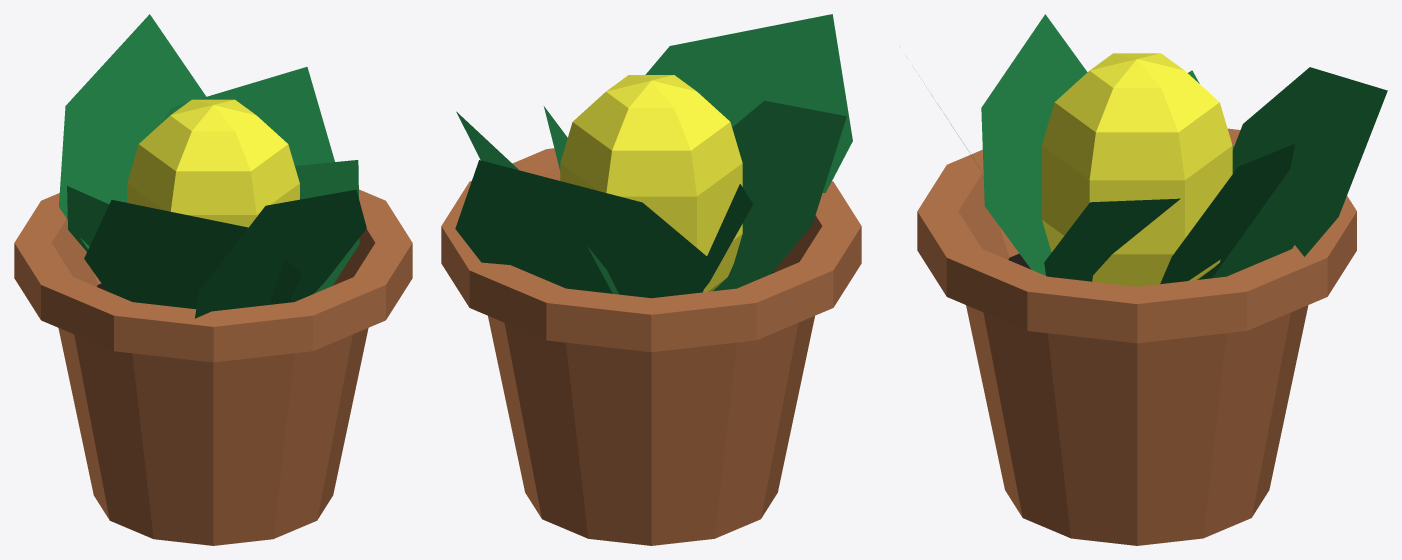
File: MM_Plant_B_Pot.fbx
3 views of the same model, side by side, from view 1: azimuth 30°, elevation 25°; view 2: azimuth 150°, elevation 25°; view 3: azimuth 270°, elevation 25° (orthographic). The views are drawn at different scales.
Visible parts, largest first — view 1: Plane.013, Plane.024, Plane.029, Plane.025, Plane.005, Plane.027, Plane.028, Plane.026; view 2: Plane.013, Plane.029, Plane.024, Plane.005, Plane.025, Plane.026, Plane.027, Plane.028; view 3: Plane.013, Plane.024, Plane.029, Plane.025, Plane.027, Plane.028.
Part boxes in pixels (x1,y1,x2,y2): Plane.013: (14,189,412,545); Plane.024: (127,99,299,227); Plane.029: (59,14,206,249); Plane.025: (84,199,302,309); Plane.005: (195,189,366,318); Plane.027: (160,67,334,165); Plane.028: (295,160,359,293); Plane.026: (67,186,108,251); Plane.013: (441,148,861,545); Plane.029: (455,160,713,298); Plane.024: (560,75,742,292); Plane.005: (645,14,852,192); Plane.025: (713,100,846,291); Plane.026: (698,184,753,292); Plane.027: (456,111,618,294); Plane.028: (544,106,567,170); Plane.013: (917,128,1356,545); Plane.024: (1042,53,1232,286); Plane.029: (1212,67,1387,278); Plane.025: (981,14,1087,275); Plane.027: (1160,144,1294,284); Plane.028: (1044,198,1180,281).
Size of the model in its own units: 23.55 by 25.48 by 26.67.
